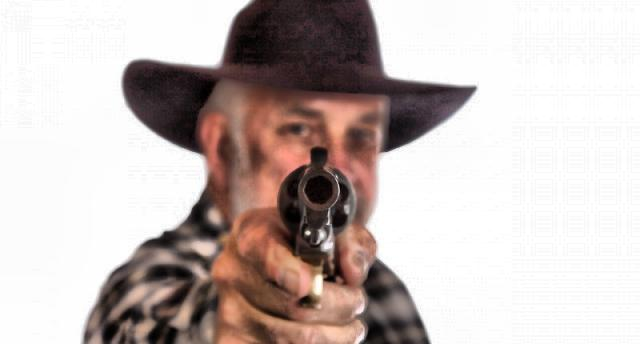pistol: (277, 143, 357, 307)
